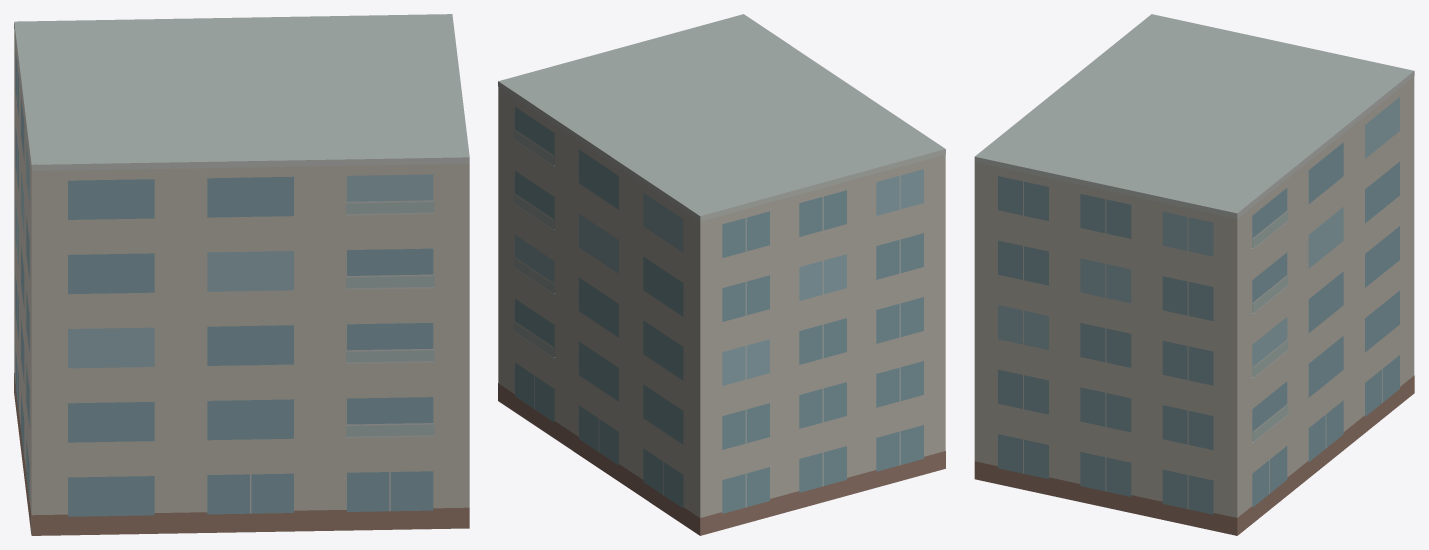
File: survey-upis-33038346.glb
3 views of the same model, side by side, from view 1: azimuth 30°, elevation 25°; view 2: azimuth 150°, elevation 25°; view 3: azimuth 270°, elevation 25° (orthographic). The views are drawn at different scales.
Parts seen in each view (by area): view 1: survey-upis-33038346.tmp; view 2: survey-upis-33038346.tmp; view 3: survey-upis-33038346.tmp.
Part boxes in pixels (x1=…): survey-upis-33038346.tmp: x1=14, y1=14, x2=469, y2=535; survey-upis-33038346.tmp: x1=498, y1=14, x2=945, y2=535; survey-upis-33038346.tmp: x1=974, y1=14, x2=1414, y2=535.
Bounding box in the file's own units: 18.97 × 14.3 × 17.69.
